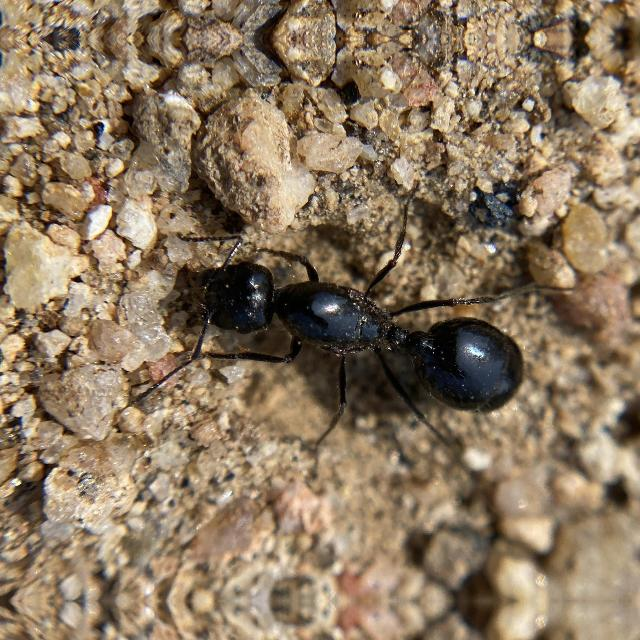Messor: (175, 237, 535, 427)
